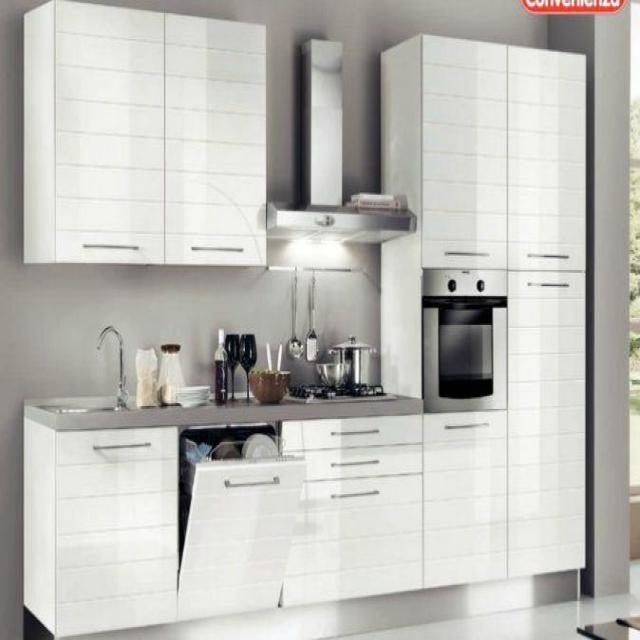dishwasher: (176, 421, 308, 611)
